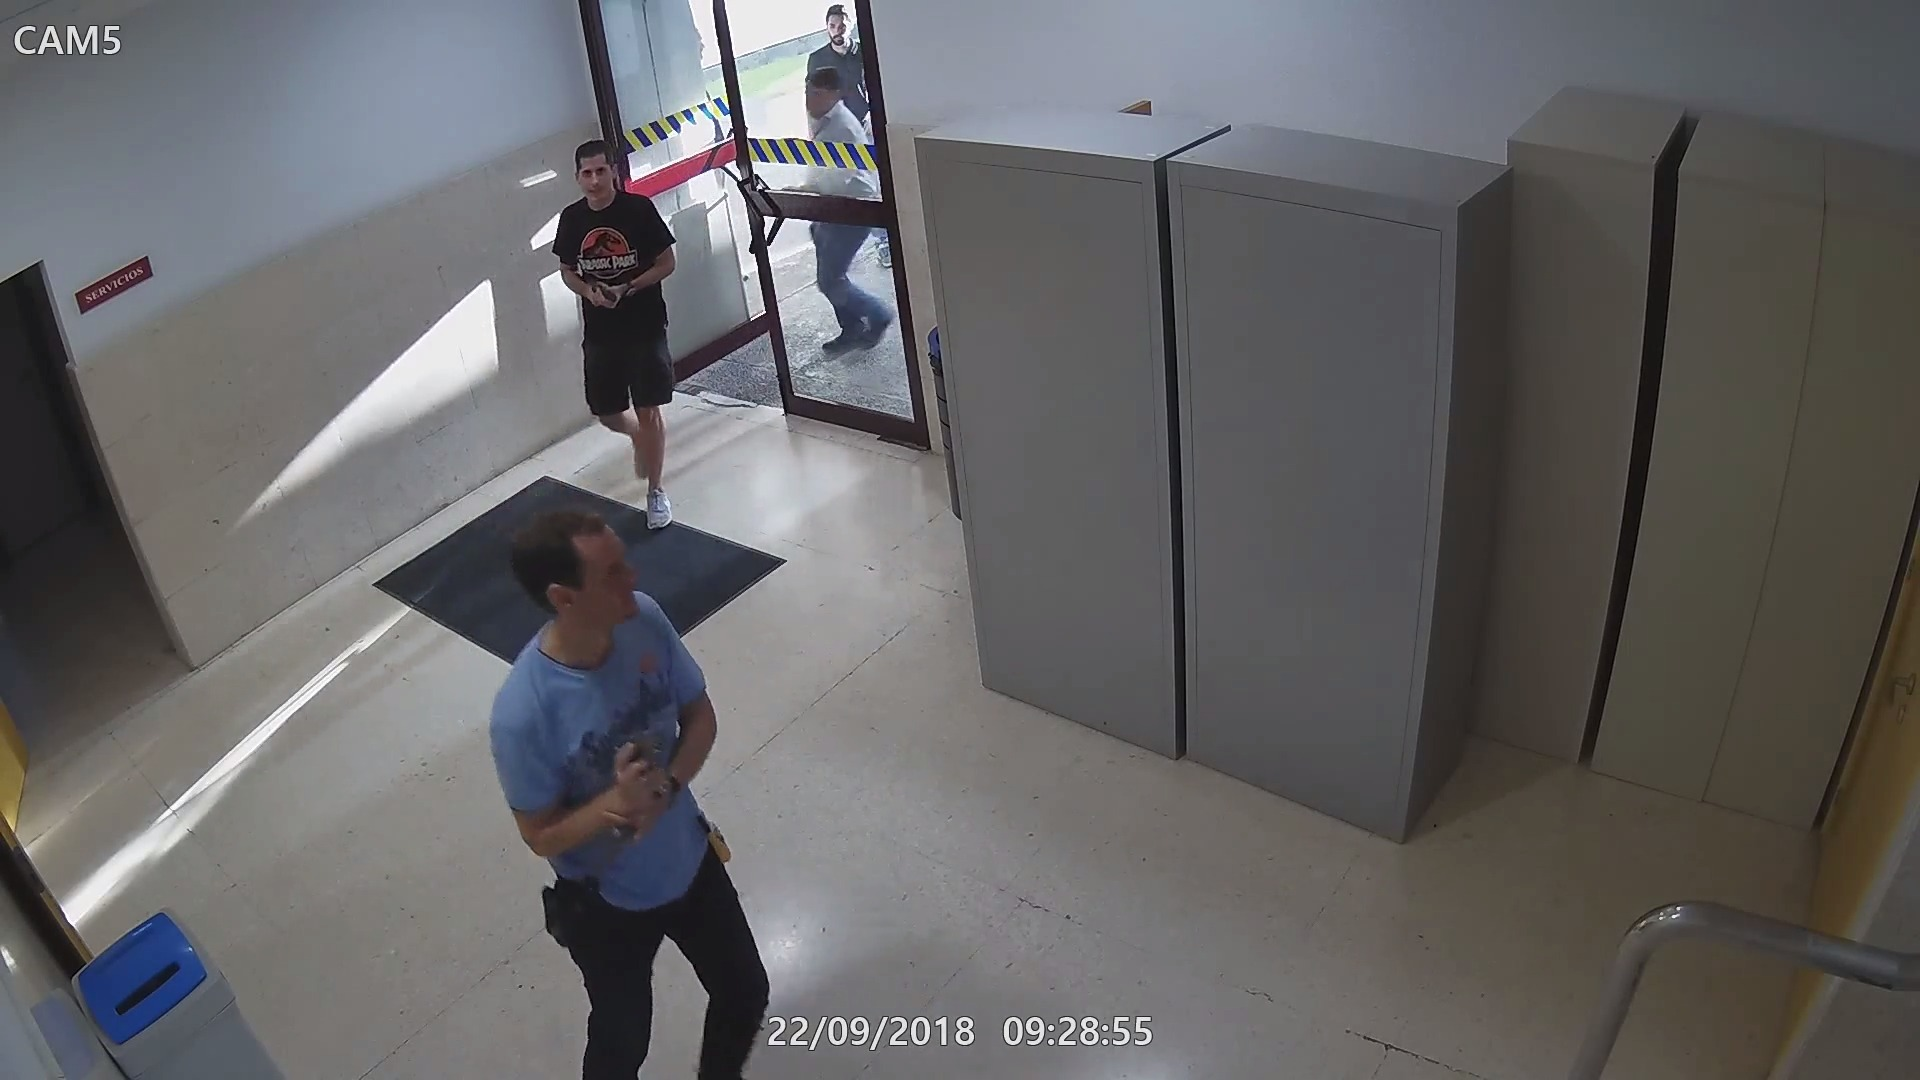Handgun: (599, 723, 674, 799), (584, 277, 625, 313)
Knife: (582, 794, 662, 898)
